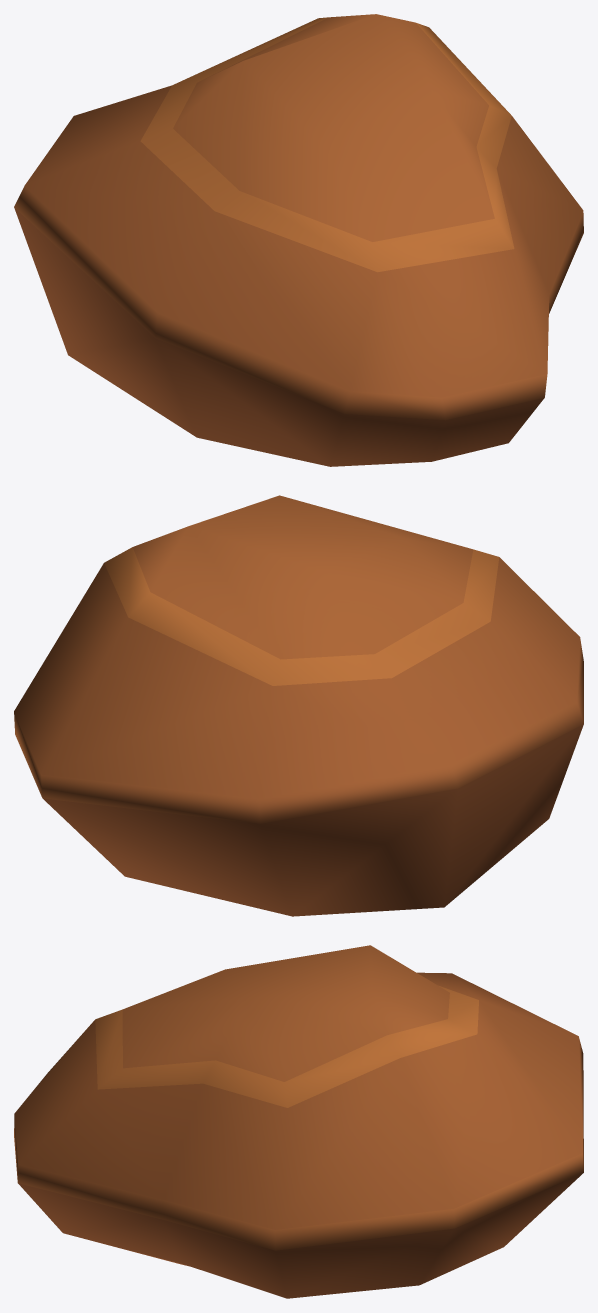
The model's file is bronze_ore_M.fbx.
3 views of the same model, one above another, from view 1: azimuth 30°, elevation 25°; view 2: azimuth 150°, elevation 25°; view 3: azimuth 270°, elevation 25° (orthographic). The views are drawn at different scales.
Parts seen in each view (by area): view 1: bronze_ore_M; view 2: bronze_ore_M; view 3: bronze_ore_M.
Part boxes in pixels (left/top/right/bottom): bronze_ore_M: left=14, top=14, right=583, bottom=466; bronze_ore_M: left=14, top=495, right=583, bottom=916; bronze_ore_M: left=14, top=945, right=583, bottom=1298.
Size of the model in its own units: 44.27 by 30.65 by 52.35.
1 material, 1 textured.
